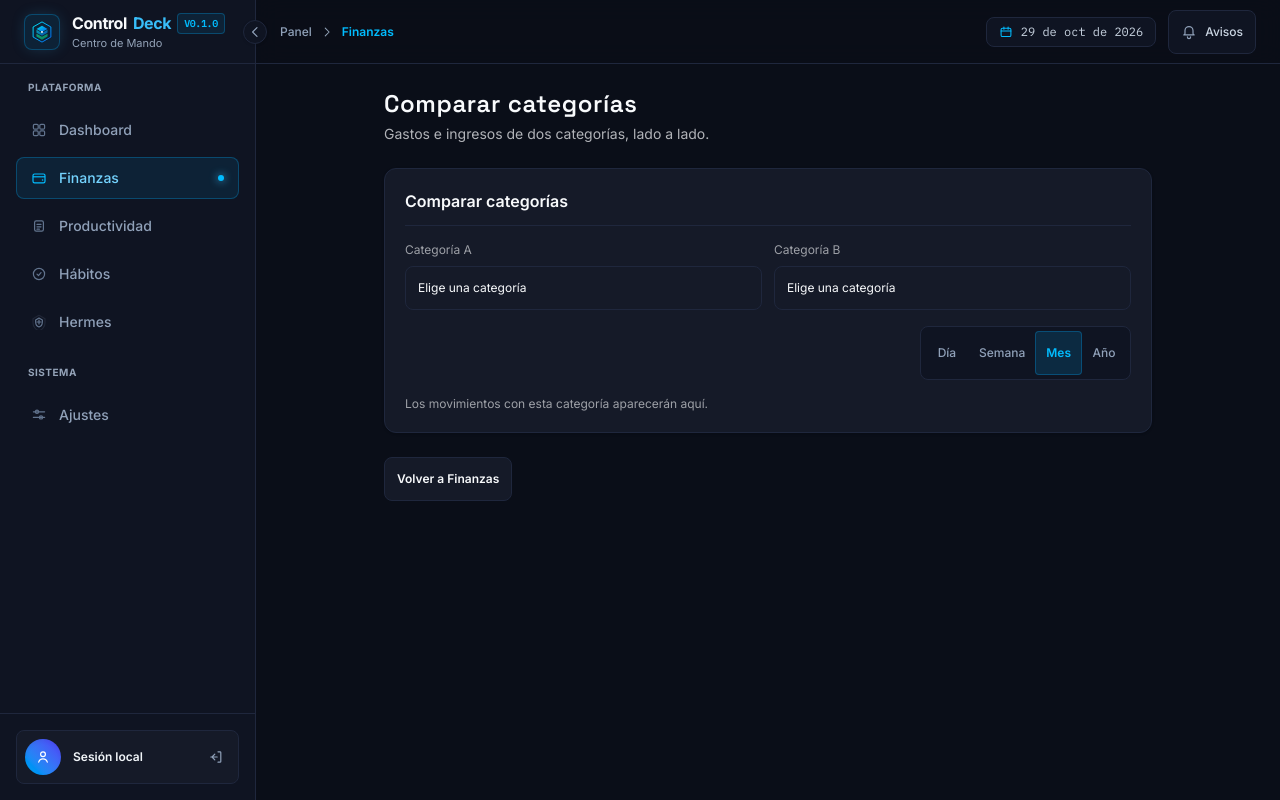
Test: compare page (movement split) › warns when both picks are the same category
Select "Comida" in the dropdown labelled "Categoría A" at (584, 288), box x1=405 y1=266 x2=762 y2=310
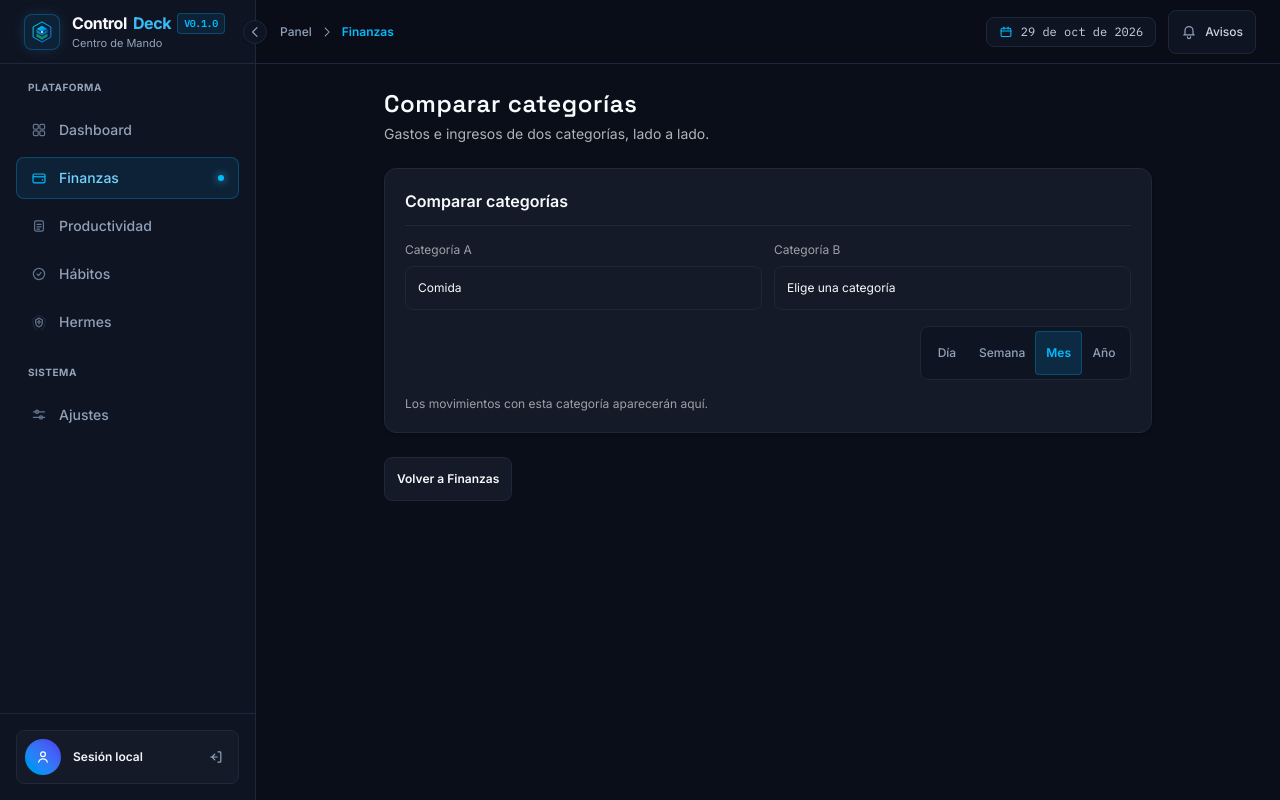
Select "Comida" in the dropdown labelled "Categoría B" at (952, 288), box x1=774 y1=266 x2=1131 y2=310
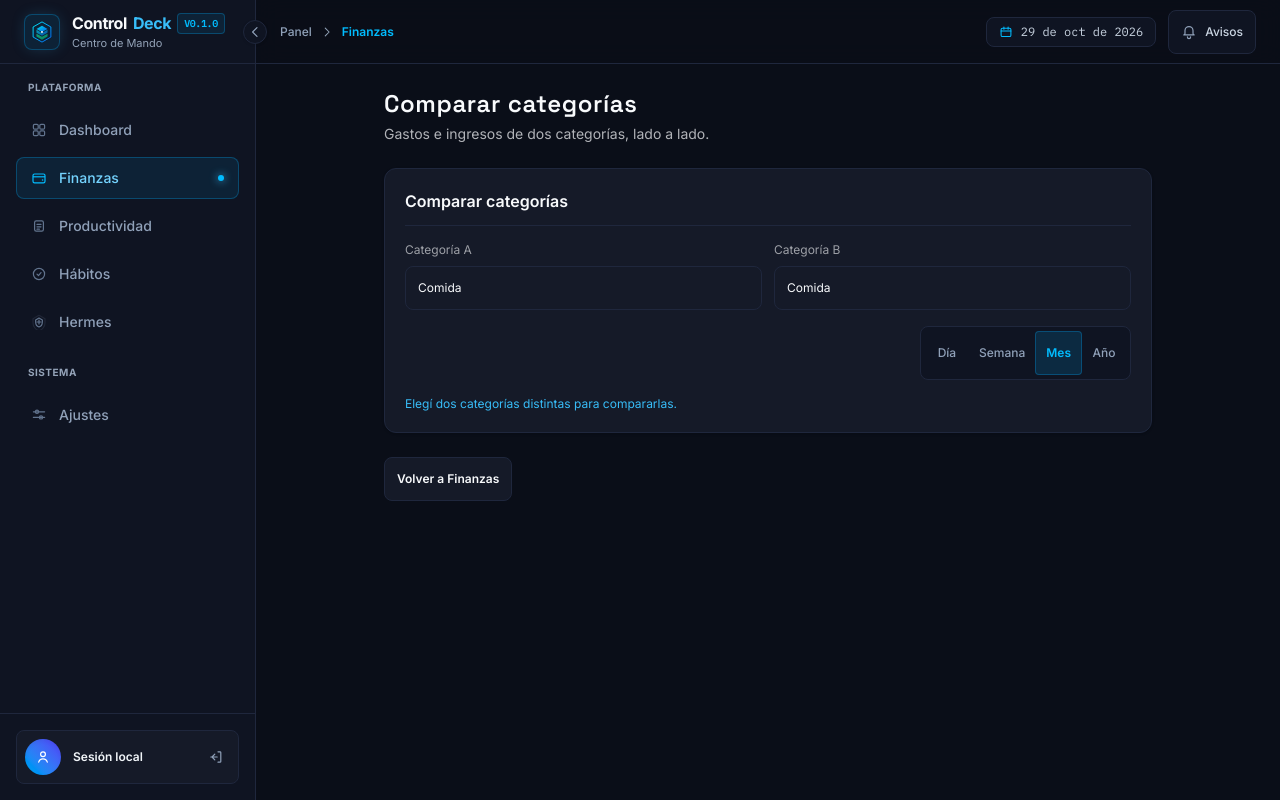
expect the text "Elegí dos categorías distintas para compararlas." is shown: met, box x1=405 y1=396 x2=677 y2=411
